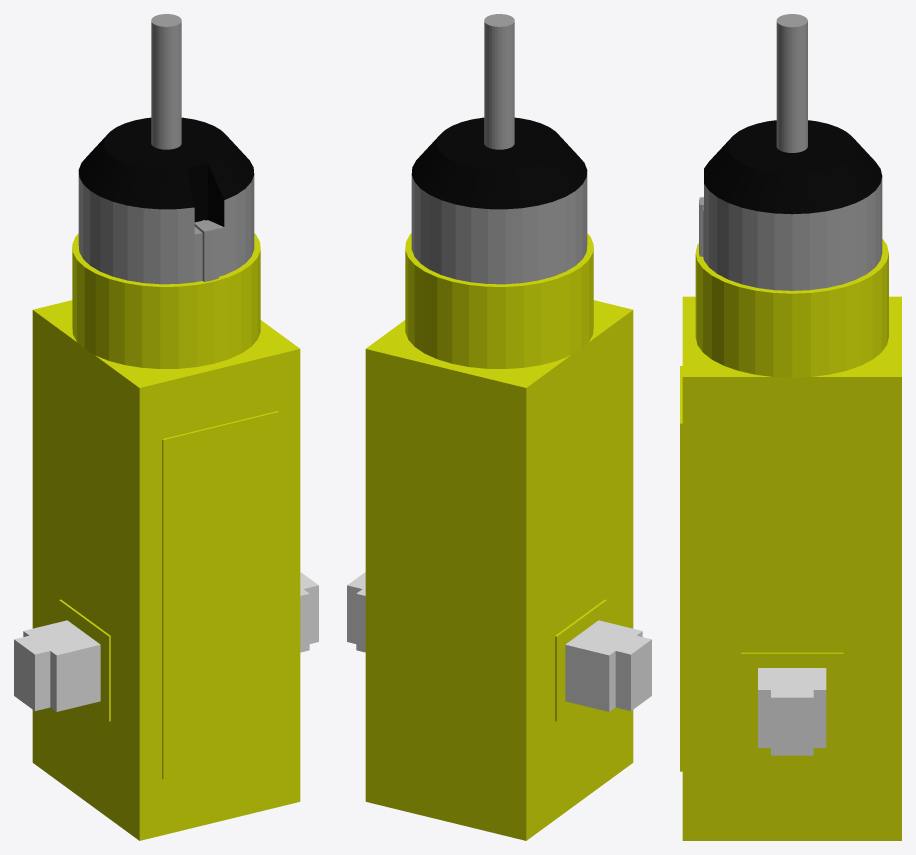
Rendered from HobbyGearMotor.glb.
The picture shows the model from 3 angles, left to right: view 1: azimuth 30°, elevation 25°; view 2: azimuth 150°, elevation 25°; view 3: azimuth 270°, elevation 25°; orthographic projection. The views are drawn at different scales.
Parts seen in each view (by area): view 1: Hobby Gear Motor, Hobby Gear Motor.001; view 2: Hobby Gear Motor, Hobby Gear Motor.001; view 3: Hobby Gear Motor, Hobby Gear Motor.001.
Part boxes in pixels (x1=…): Hobby Gear Motor: x1=14, y1=117, x2=318, y2=840; Hobby Gear Motor.001: x1=151, y1=14, x2=181, y2=149; Hobby Gear Motor: x1=347, y1=117, x2=651, y2=840; Hobby Gear Motor.001: x1=484, y1=14, x2=514, y2=149; Hobby Gear Motor: x1=680, y1=120, x2=901, y2=840; Hobby Gear Motor.001: x1=776, y1=14, x2=807, y2=152.
Bounding box in the file's own units: 0.3396 × 0.9047 × 0.2243.
